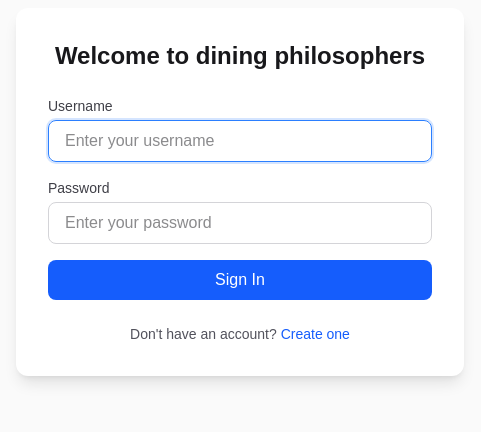
Test: LoginPage › displays error message on login failure
Type "testuser" into the field labelled "Username". click: (240, 141)
box: [48,120,432,162]
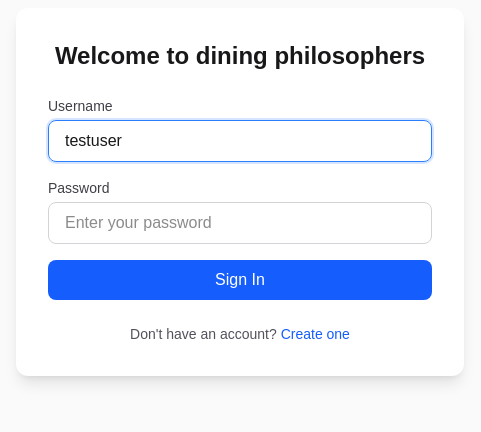
Type "wrongpass" into the password field labelled "Password". click: (240, 223)
box: [48,202,432,244]
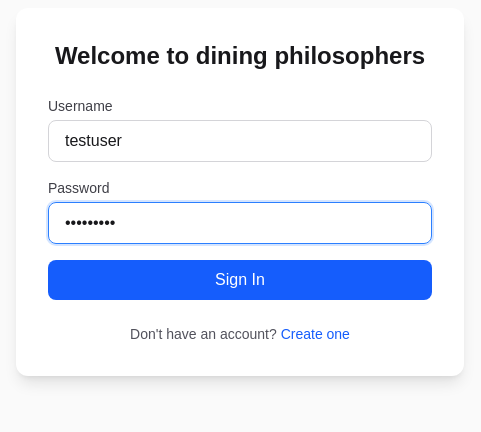
Click the button "Sign In". click: (240, 280)
box: [48,260,432,300]
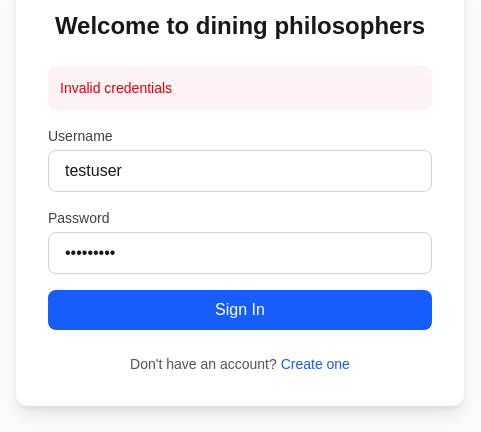
Expected: the text "Invalid credentials" is shown, [48,66,432,110]
